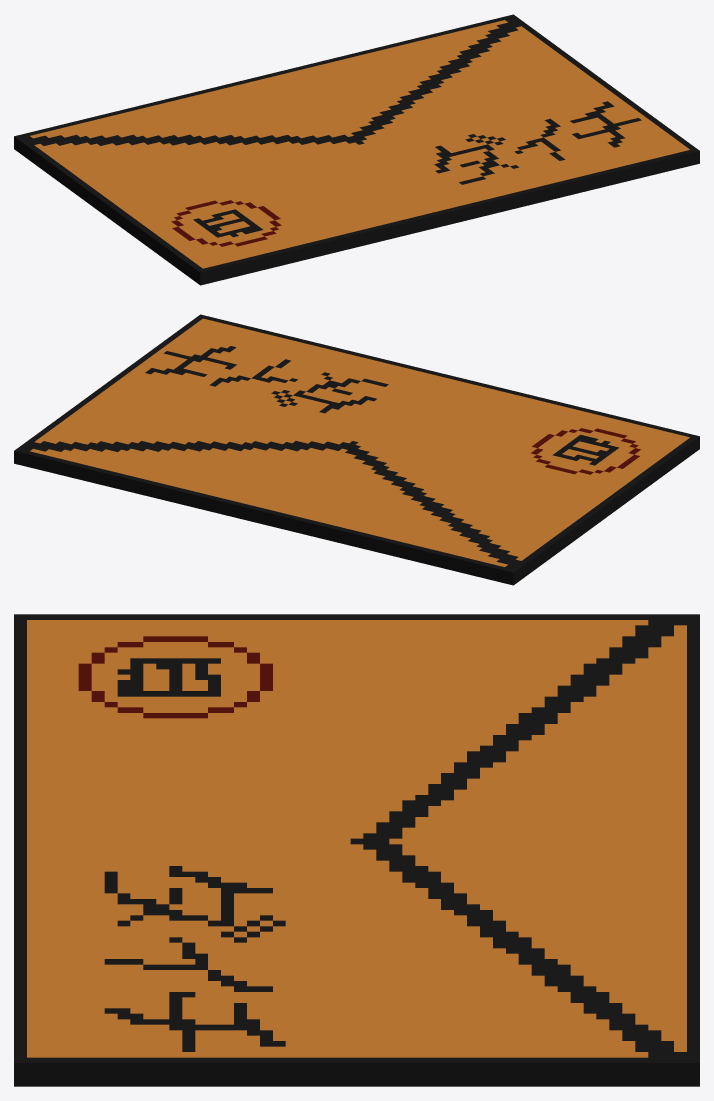
Rendered from letter.obj.
3 renders of one model, top to bottom at view 1: azimuth 30°, elevation 25°; view 2: azimuth 150°, elevation 25°; view 3: azimuth 270°, elevation 25°, orthographic. The views are drawn at different scales.
Bounding box in the file's own units: 8.2 × 0.2 × 5.3.
Materials: 1 (1 with a texture image).
